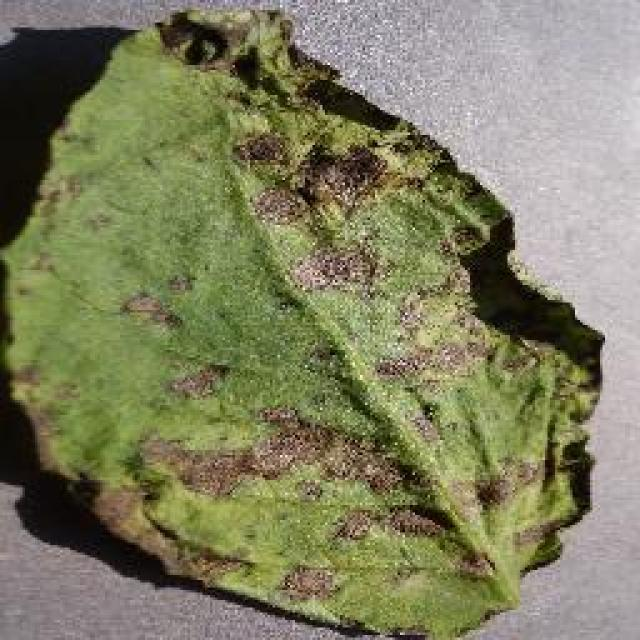Potato: (0, 5, 605, 637)
